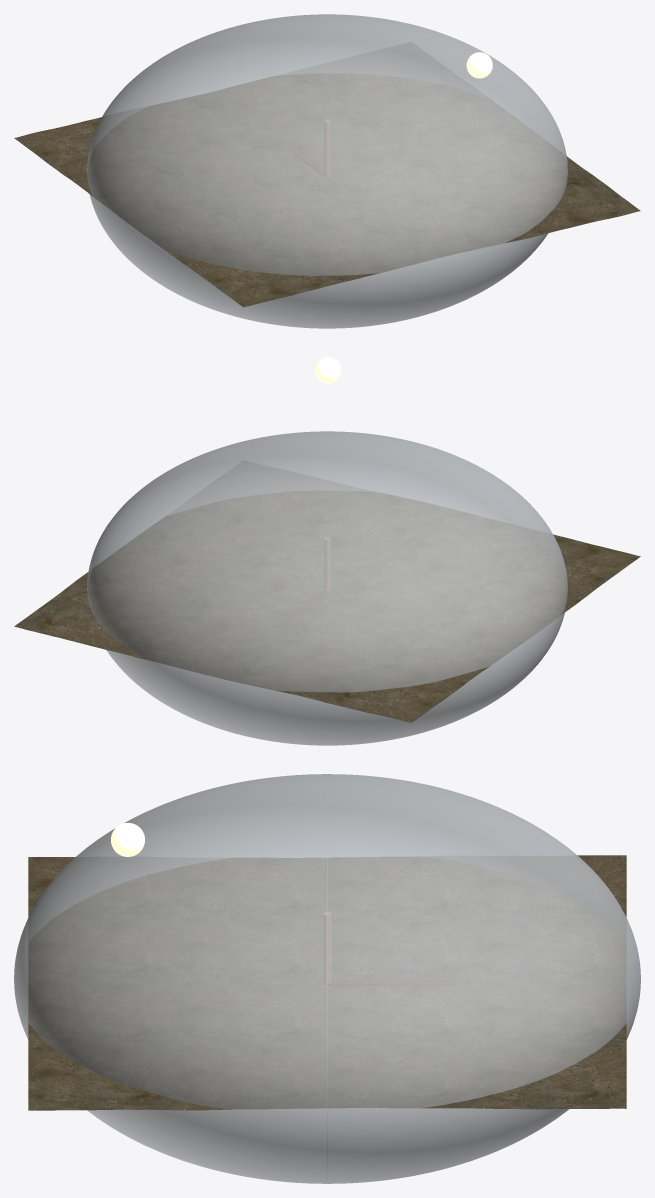
The model's file is solar-altitude.glb.
3 renders of one model, top to bottom at view 1: azimuth 30°, elevation 25°; view 2: azimuth 150°, elevation 25°; view 3: azimuth 270°, elevation 25°, orthographic. The views are drawn at different scales.
Parts seen in each view (by area): view 1: Alt_SkyDome, Alt_Land, Alt_Sun; view 2: Alt_SkyDome, Alt_Land, Alt_Sun; view 3: Alt_SkyDome, Alt_Land, Alt_Sun, Alt_Shadow, Alt_Gnomon.
Boxes of the visible parts, bbox=[...] form: Alt_SkyDome: bbox=[87, 14, 567, 328]; Alt_Land: bbox=[14, 73, 640, 307]; Alt_Sun: bbox=[466, 52, 492, 78]; Alt_SkyDome: bbox=[87, 431, 567, 745]; Alt_Land: bbox=[14, 490, 640, 722]; Alt_Sun: bbox=[315, 357, 341, 383]; Alt_SkyDome: bbox=[14, 774, 640, 1183]; Alt_Land: bbox=[28, 855, 626, 1110]; Alt_Sun: bbox=[111, 823, 144, 856]; Alt_Shadow: bbox=[328, 980, 455, 985]; Alt_Gnomon: bbox=[323, 912, 331, 986].
Size of the model in its own units: 4.4 by 2.78 by 4.4.
5 materials, 2 textured.
